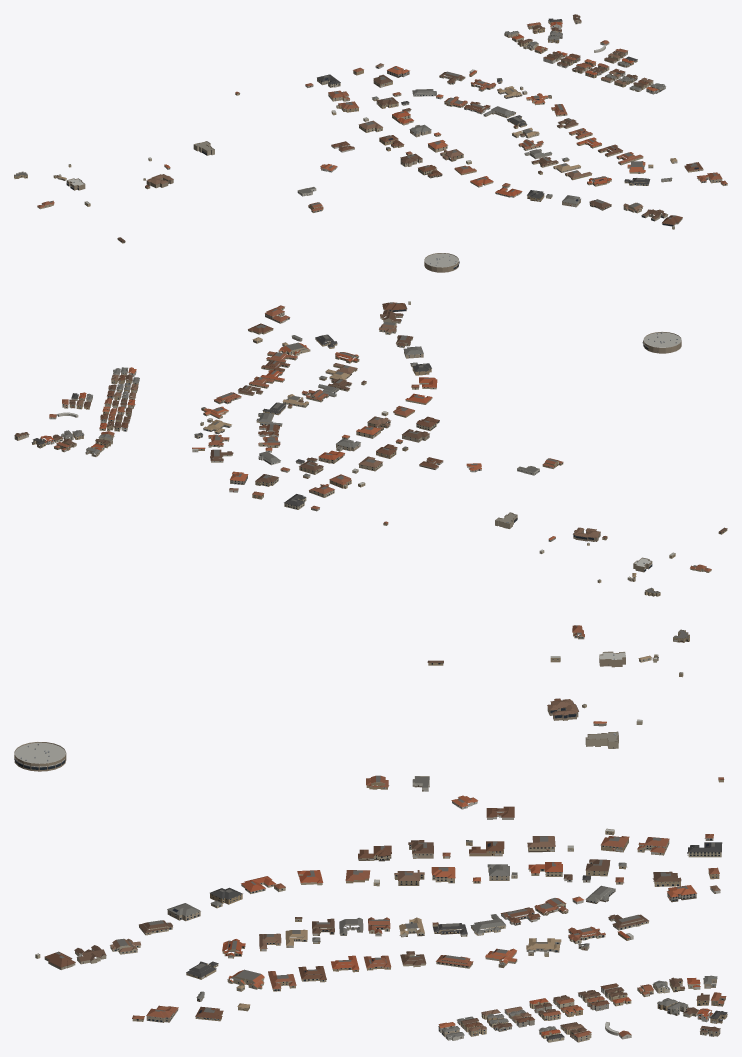
The picture shows the model from 3 angles, top to bottom: view 1: azimuth 30°, elevation 25°; view 2: azimuth 150°, elevation 25°; view 3: azimuth 270°, elevation 25°; orthographic projection. The views are drawn at different scales.
Parts seen in each view (by area): view 1: buildings_r4_c1_lod0; view 2: buildings_r4_c1_lod0; view 3: buildings_r4_c1_lod0.
Boxes of the visible parts, bbox=[...] form: buildings_r4_c1_lod0: bbox=[14, 14, 727, 272]; buildings_r4_c1_lod0: bbox=[14, 301, 727, 596]; buildings_r4_c1_lod0: bbox=[14, 625, 727, 1042].
Bounding box in the file's own units: 1126 × 59.65 × 790.
